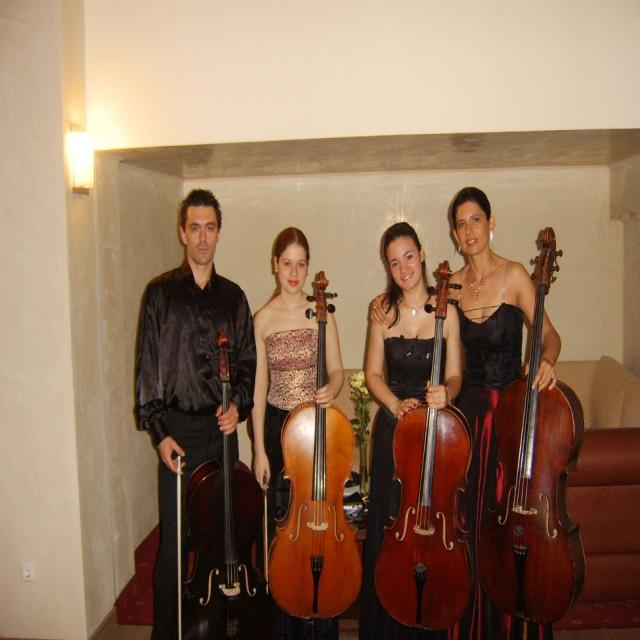cello: (478, 223, 584, 616), (373, 258, 475, 626), (268, 268, 368, 622), (182, 328, 276, 640)
